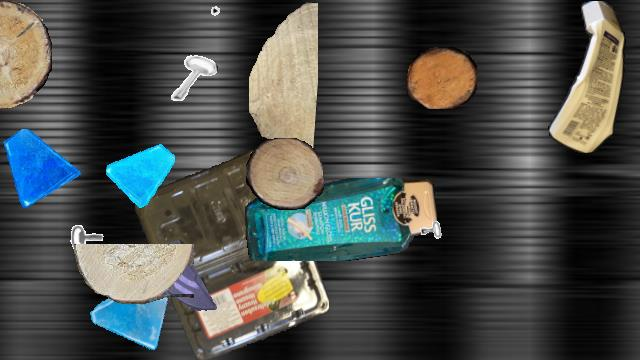glass: (88, 275, 172, 359), (1, 129, 81, 209), (142, 234, 222, 314), (106, 139, 174, 207)
metal: (167, 52, 217, 102), (68, 206, 114, 252), (411, 197, 455, 241), (210, 1, 250, 41), (0, 247, 7, 299)
plastic: (135, 149, 329, 359), (245, 178, 437, 260), (542, 1, 630, 153)
wood: (249, 1, 317, 159), (74, 244, 194, 304), (246, 138, 324, 210), (0, 1, 51, 109), (407, 47, 477, 109)
